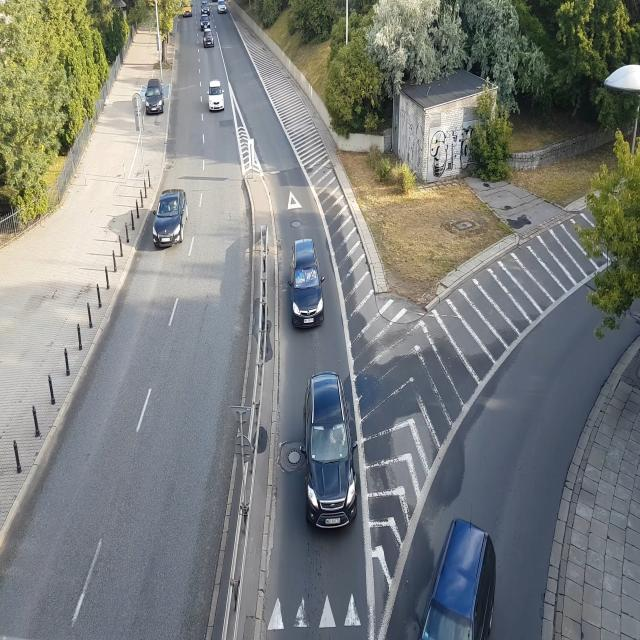car: (420, 494, 506, 640), (298, 368, 358, 536), (287, 227, 328, 340), (152, 182, 191, 251), (143, 74, 167, 120), (206, 77, 227, 117), (201, 30, 217, 50), (197, 12, 211, 30), (214, 0, 229, 16), (183, 0, 194, 20), (201, 0, 211, 16)
